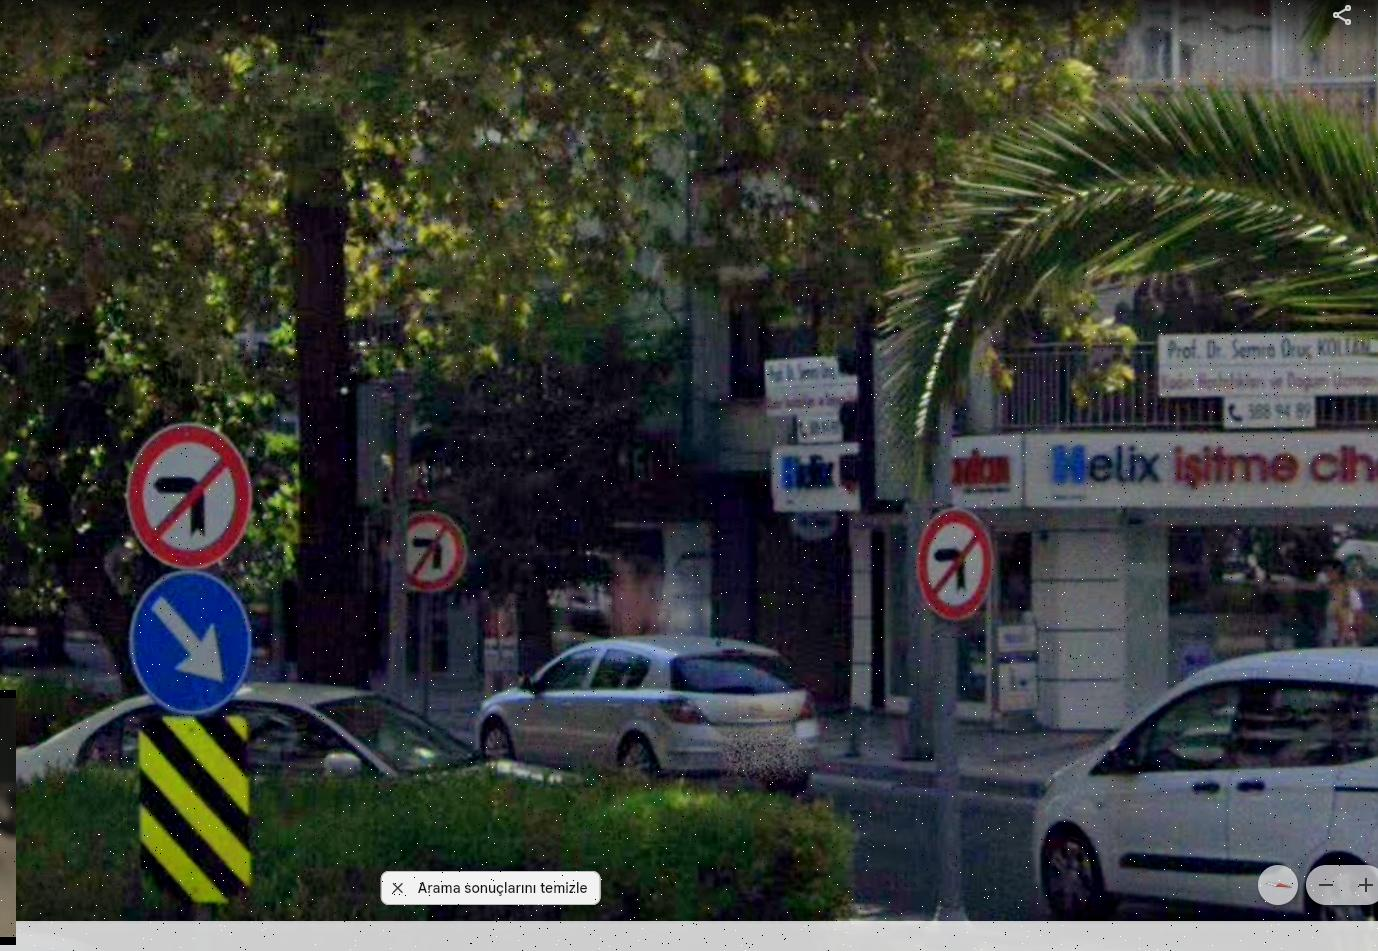leftturnsareforbidden: (130, 448, 252, 569), (921, 523, 996, 615), (403, 511, 466, 585)
